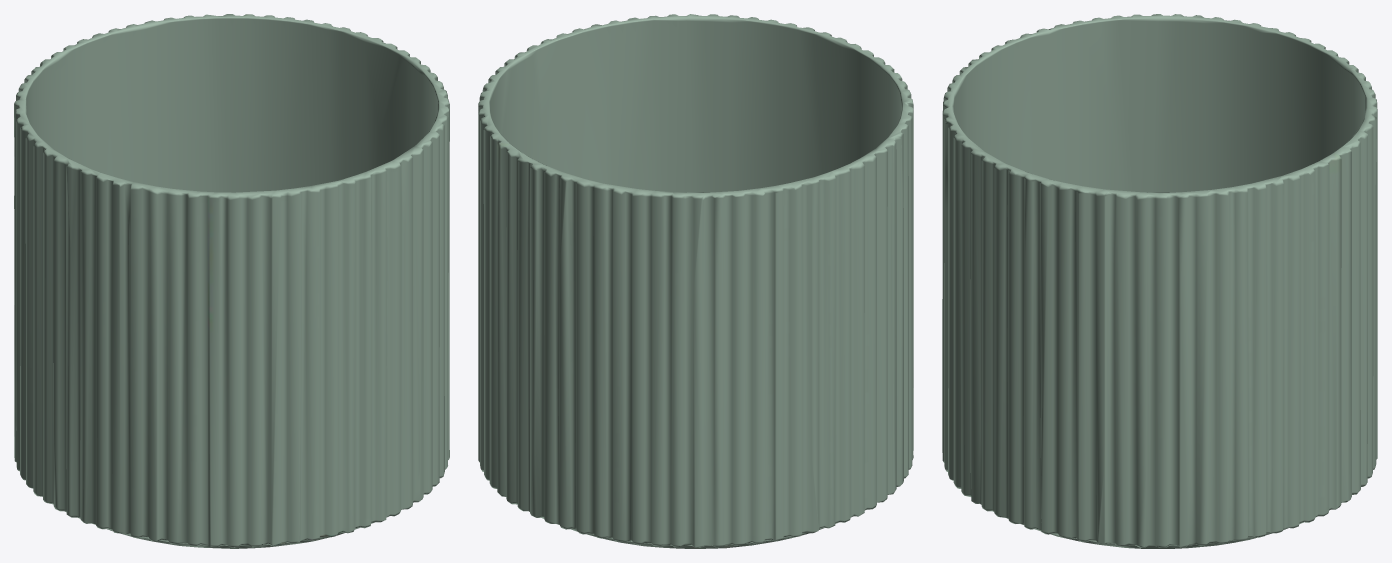
Rendered from daksjus_doniczka_00609229.glb.
3 renders of one model, left to right at view 1: azimuth 30°, elevation 25°; view 2: azimuth 150°, elevation 25°; view 3: azimuth 270°, elevation 25°, orthographic.
Parts seen in each view (by area): view 1: daksjus_doniczka_00609229; view 2: daksjus_doniczka_00609229; view 3: daksjus_doniczka_00609229.
Boxes of the visible parts, box(x1,y1,x2,y2) form: daksjus_doniczka_00609229: box(14, 14, 449, 548); daksjus_doniczka_00609229: box(478, 14, 913, 548); daksjus_doniczka_00609229: box(942, 14, 1377, 548).
Bounding box in the file's own units: 0.1739 × 0.16 × 0.1737.
Materials: 1 (1 with a texture image).
